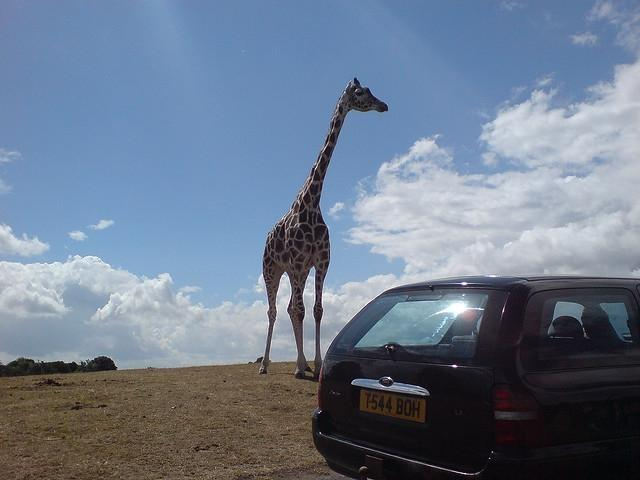car: (306, 274, 638, 474)
